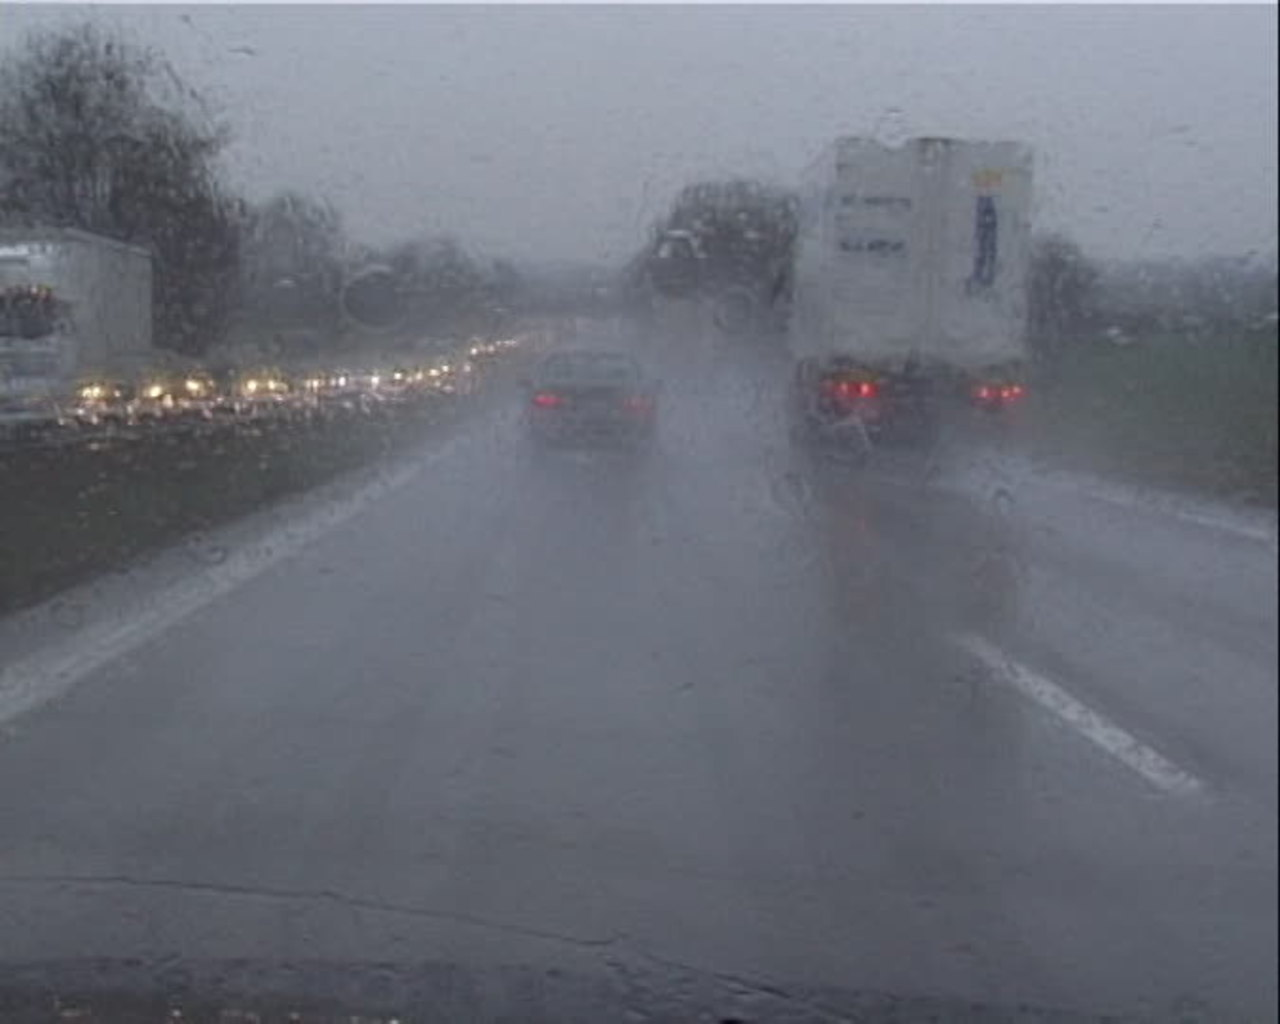car: (522, 345, 653, 458)
truck: (786, 133, 1030, 459), (7, 248, 160, 428)
